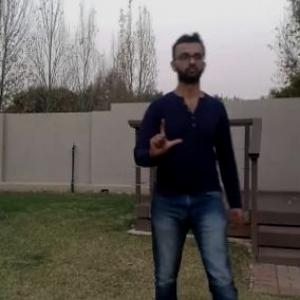land_hand: (147, 110, 192, 162)
